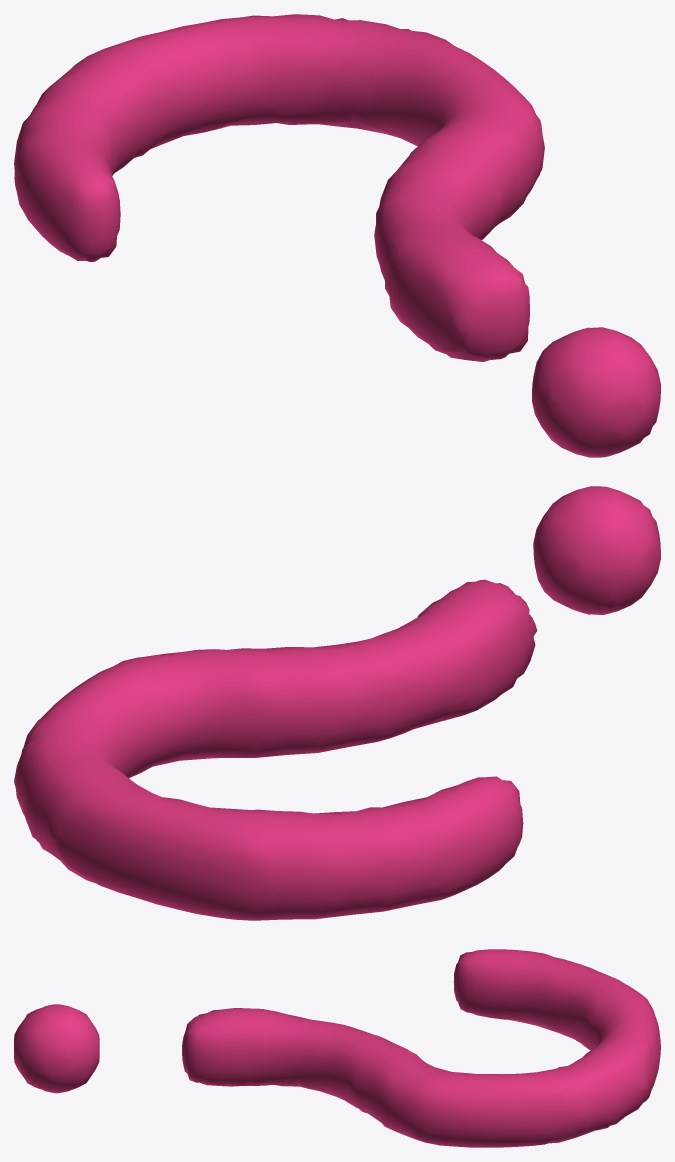
The model's file is chonkQuestionmark.glb.
3 views of the same model, one above another, from view 1: azimuth 30°, elevation 25°; view 2: azimuth 150°, elevation 25°; view 3: azimuth 270°, elevation 25° (orthographic). The views are drawn at different scales.
Parts seen in each view (by area): view 1: dot; view 2: dot; view 3: dot.
Part boxes in pixels (left/top/right/bottom): dot: left=14, top=14, right=660, bottom=457; dot: left=14, top=486, right=660, bottom=920; dot: left=14, top=949, right=660, bottom=1147.
Bounding box in the file's own units: 6.69 × 1.58 × 11.92.
